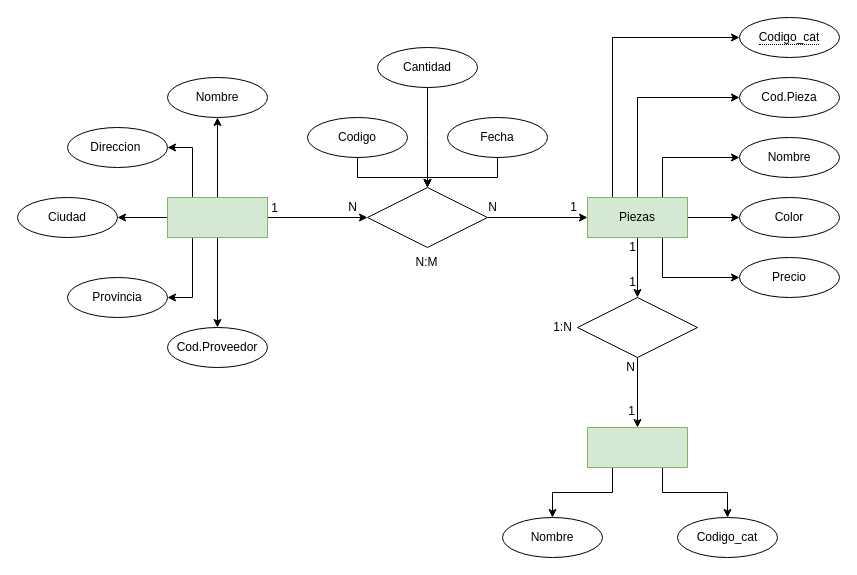
This 857x575 diagram has some shape labels left out. The shapes that lost their labels are listed below. From the top down, each one's centre as x and y in pixels, then its label:
(x=217, y=217): PROVEEDOR
(x=427, y=217): SUMINISTRO
(x=637, y=327): TIENE
(x=637, y=447): Categorias
